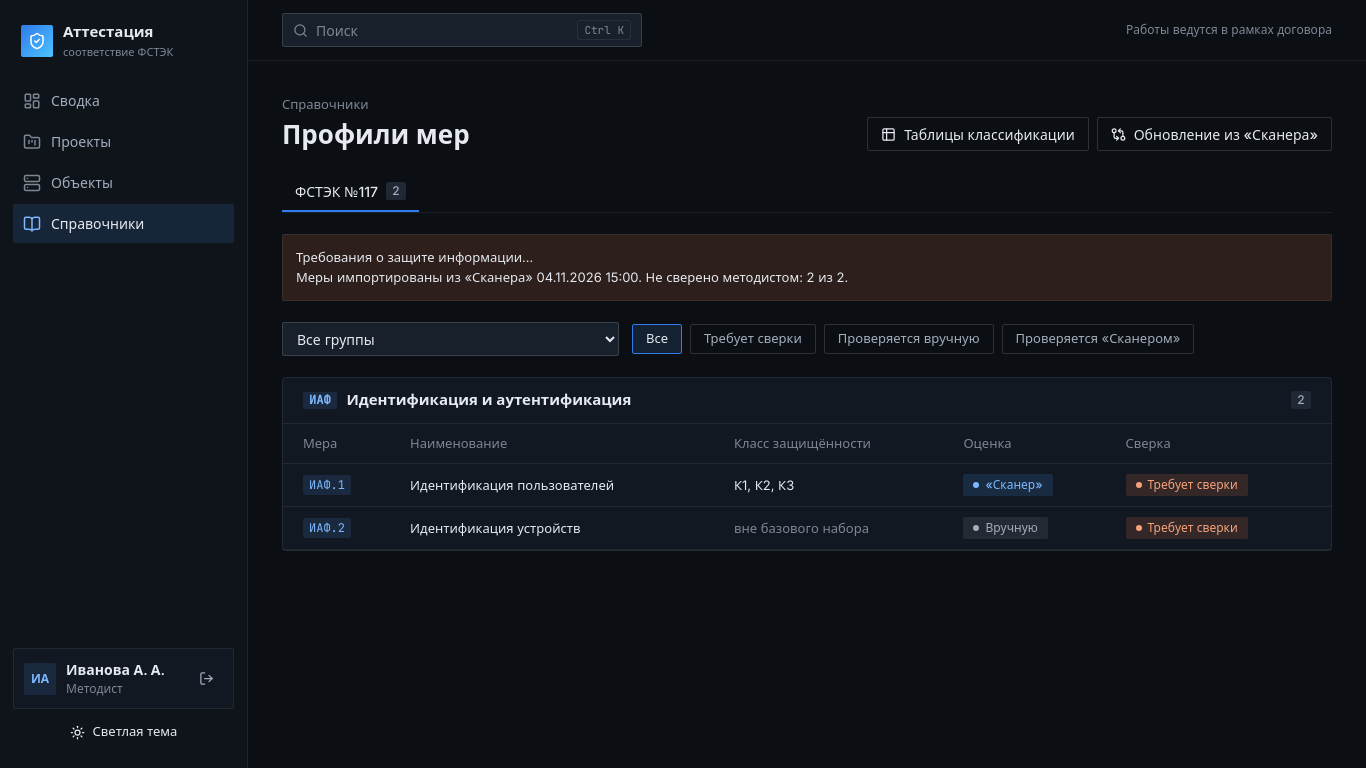
Test: справочник: меры с отметкой «требует сверки», шторка и сверка
This screenshot has width=1366, height=768.
Check: the text "Идентификация устройств" is shown, box 397,507 -> 721,550
Check: the text "Требует сверки" is shown 2 times, box 1126,474 -> 1248,496; 1126,517 -> 1248,539
Click the text "Идентификация пользователей": (559, 485) 397,464 -> 721,507
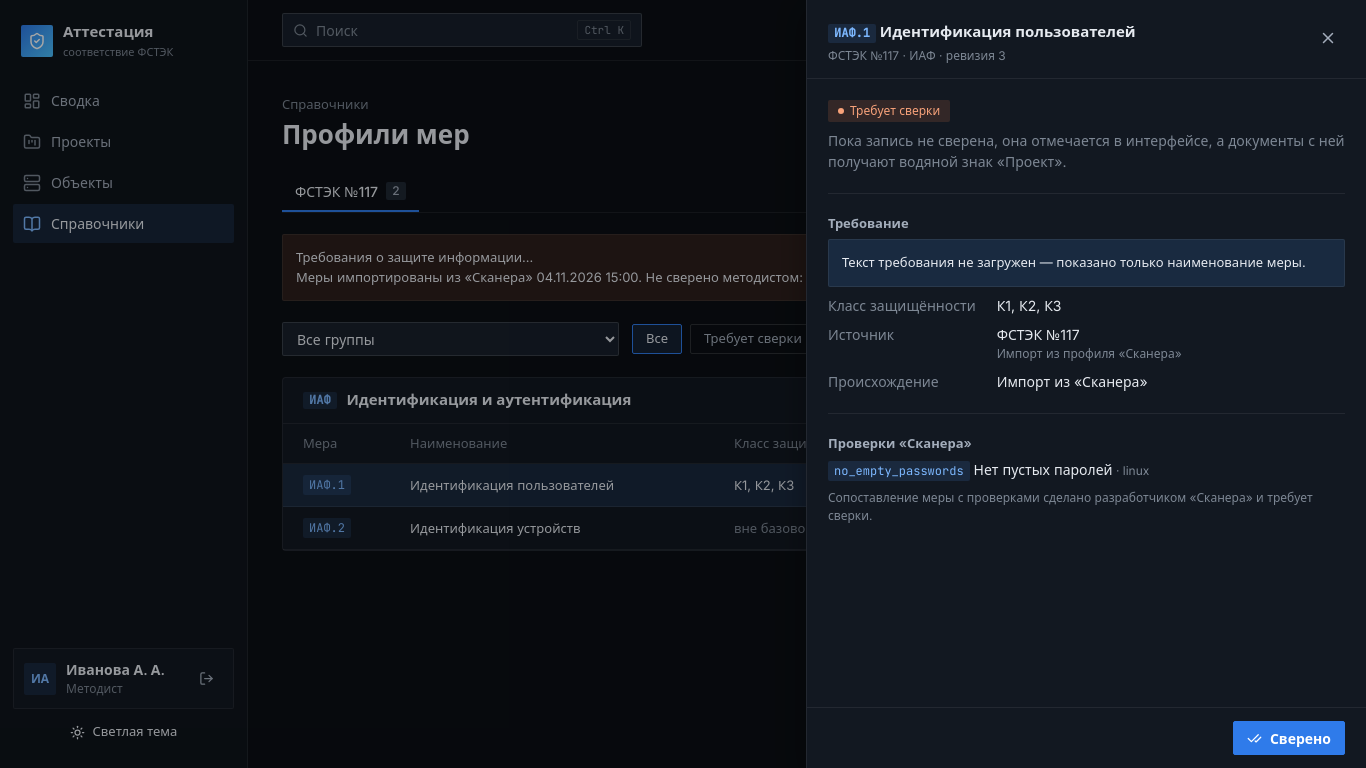
Check: the text "no_empty_passwords Нет пустых паролей · linux" is shown, box 828,459 -> 1149,481
Check: the text "Текст требования не загружен" is shown, box 842,254 -> 1306,270
Click the button "Сверено": (1289, 738) 1233,721 -> 1345,755
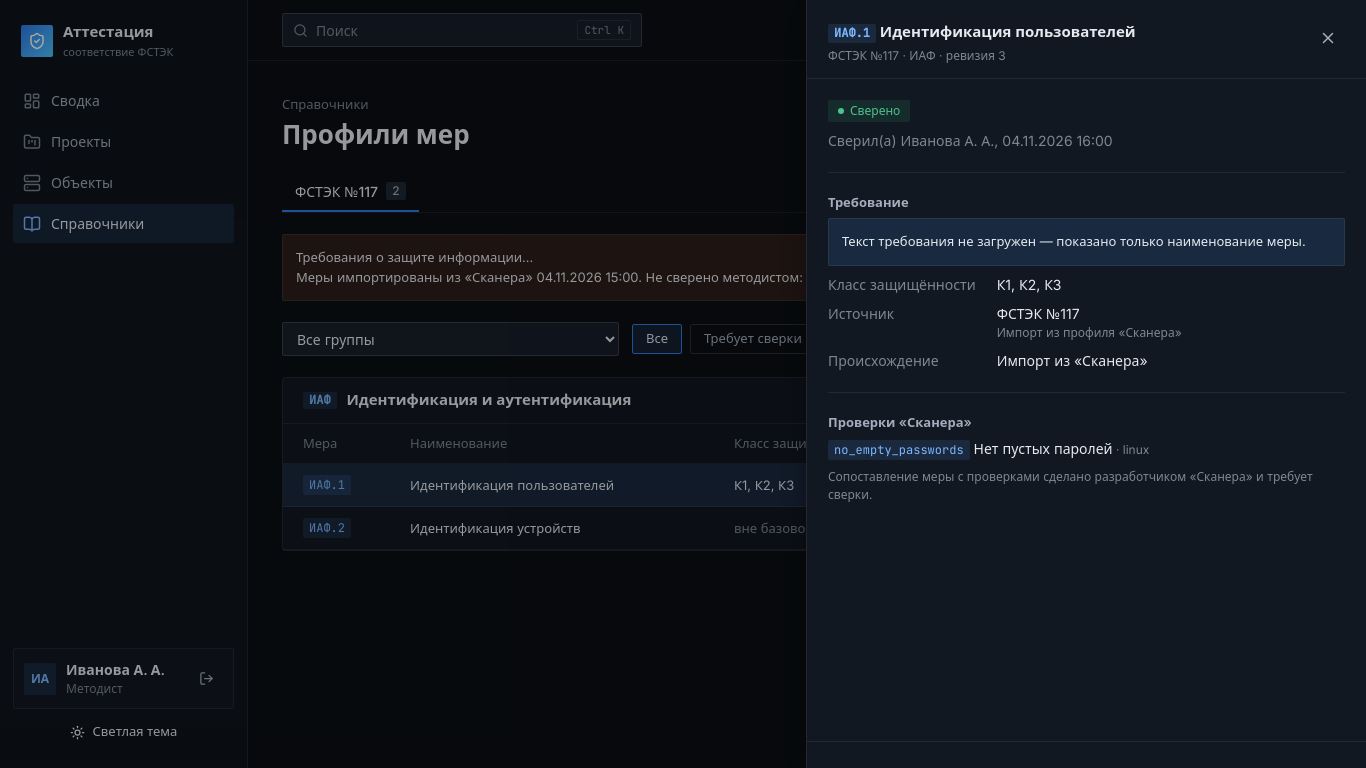
Check: the text "Сверил(а) Иванова А. А., 04.11.2026 16:00" is shown, box 828,130 -> 1113,151
